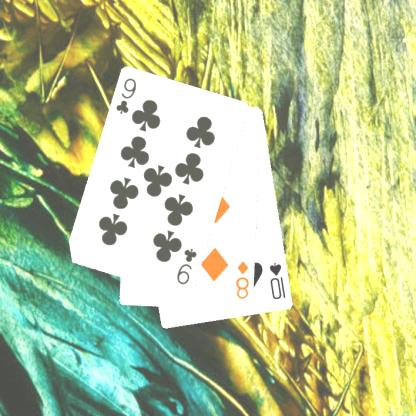10S: (267, 260, 287, 301)
8D: (234, 258, 250, 301)
9C: (174, 245, 199, 286), (113, 76, 138, 116)
